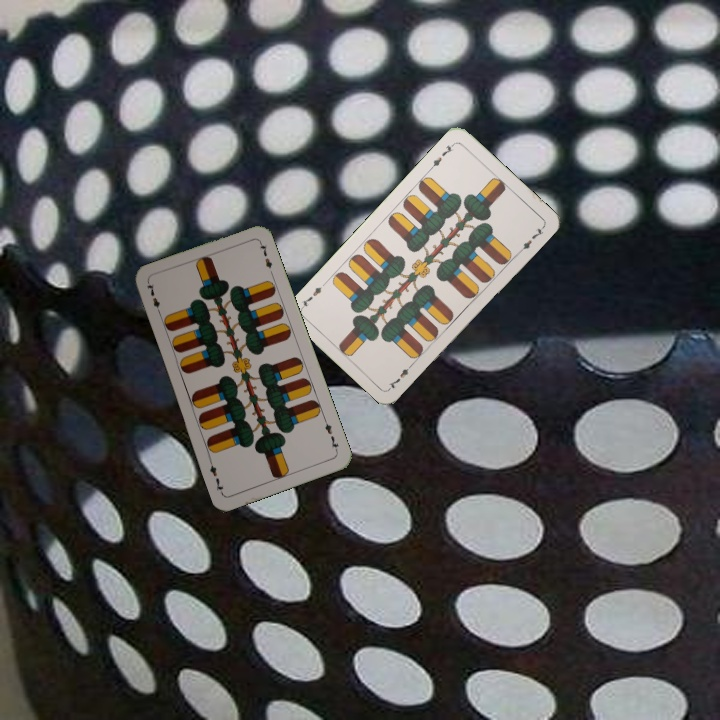E7: (384, 359, 417, 392), (426, 139, 458, 172), (142, 279, 164, 318), (320, 415, 341, 454)
